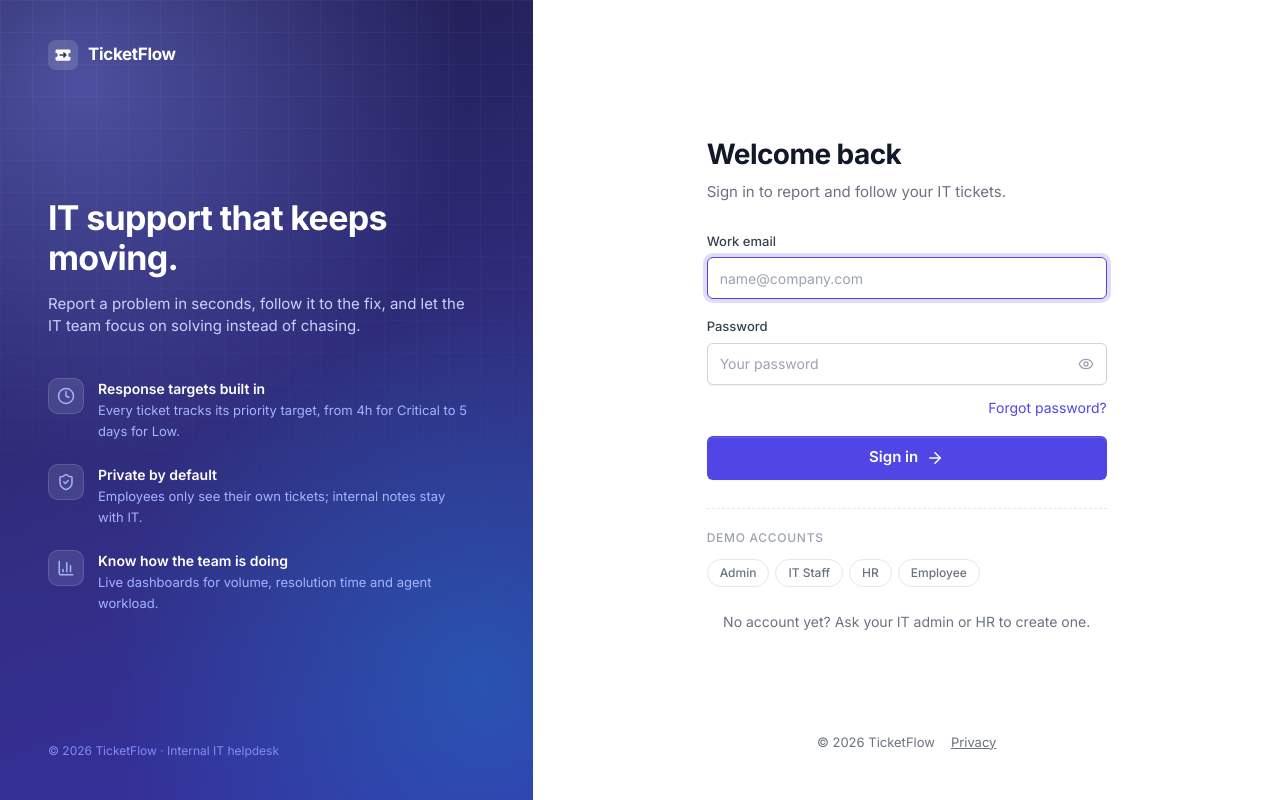
the link on the sign-in page › is there when email is set up, and takes the typed email along
Type "liridon@ticketflow.local" into the field labelled "Work email".
click(907, 278); type("liridon@ticketflow.local")  # box [707,257,1107,299]
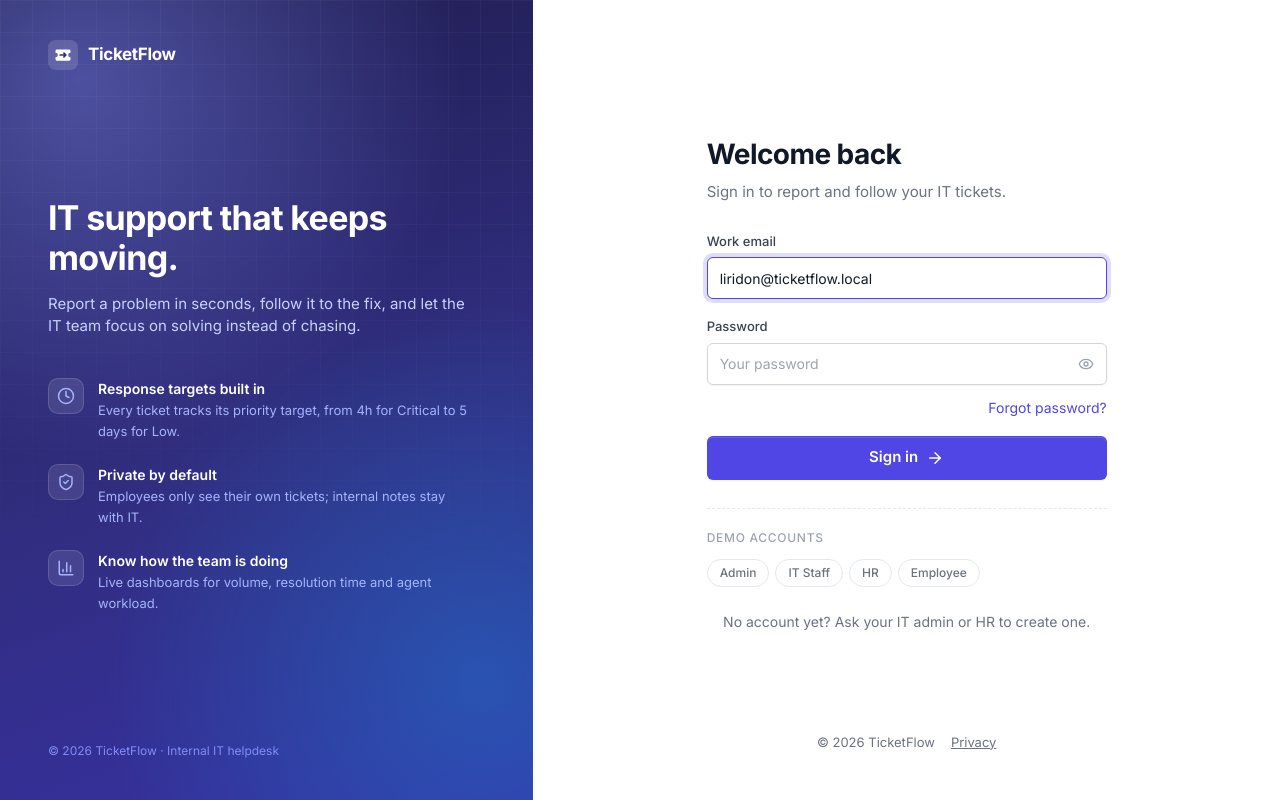
Click the link "Forgot password?".
click(1048, 407)  # box [988,398,1107,416]
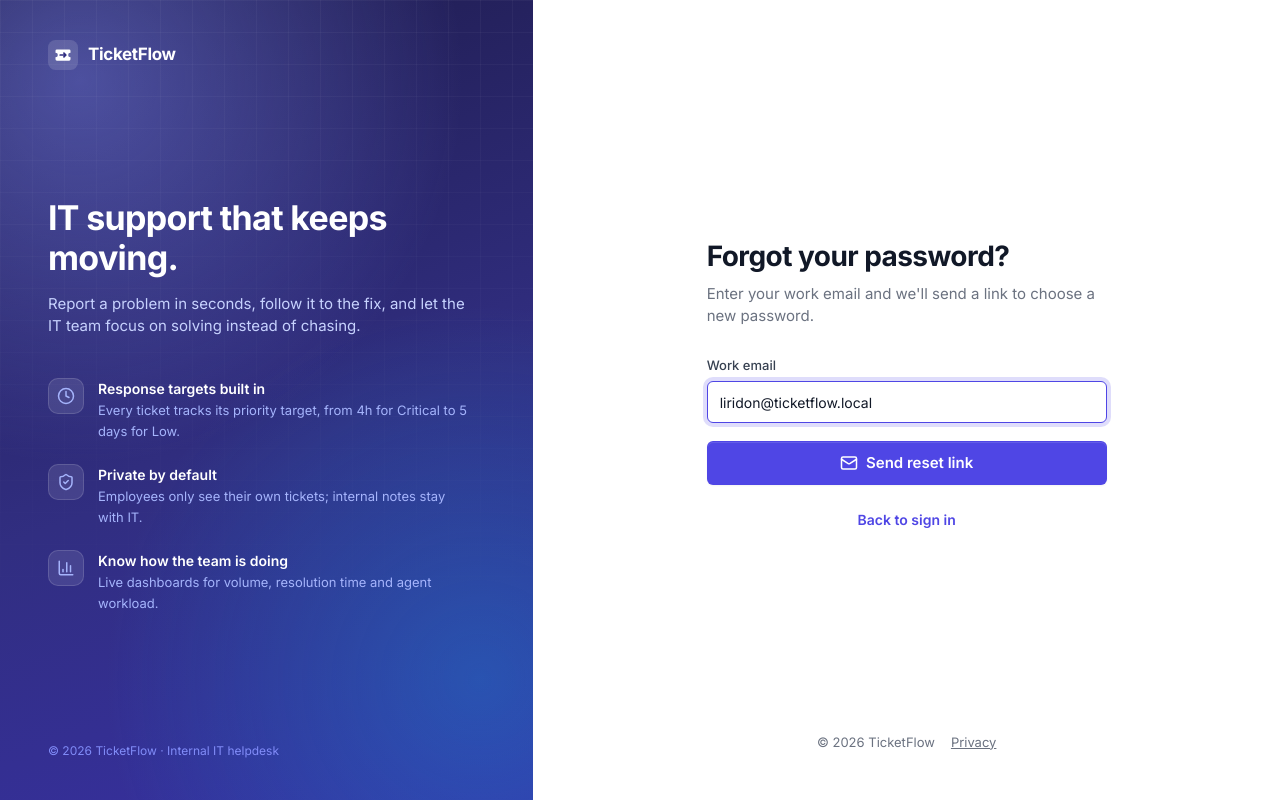
expect the heading "Forgot your password?" is shown: met, box [707,238,1009,272]
expect the field labelled "Work email" holds "liridon@ticketflow.local": met, box [707,381,1107,423]
